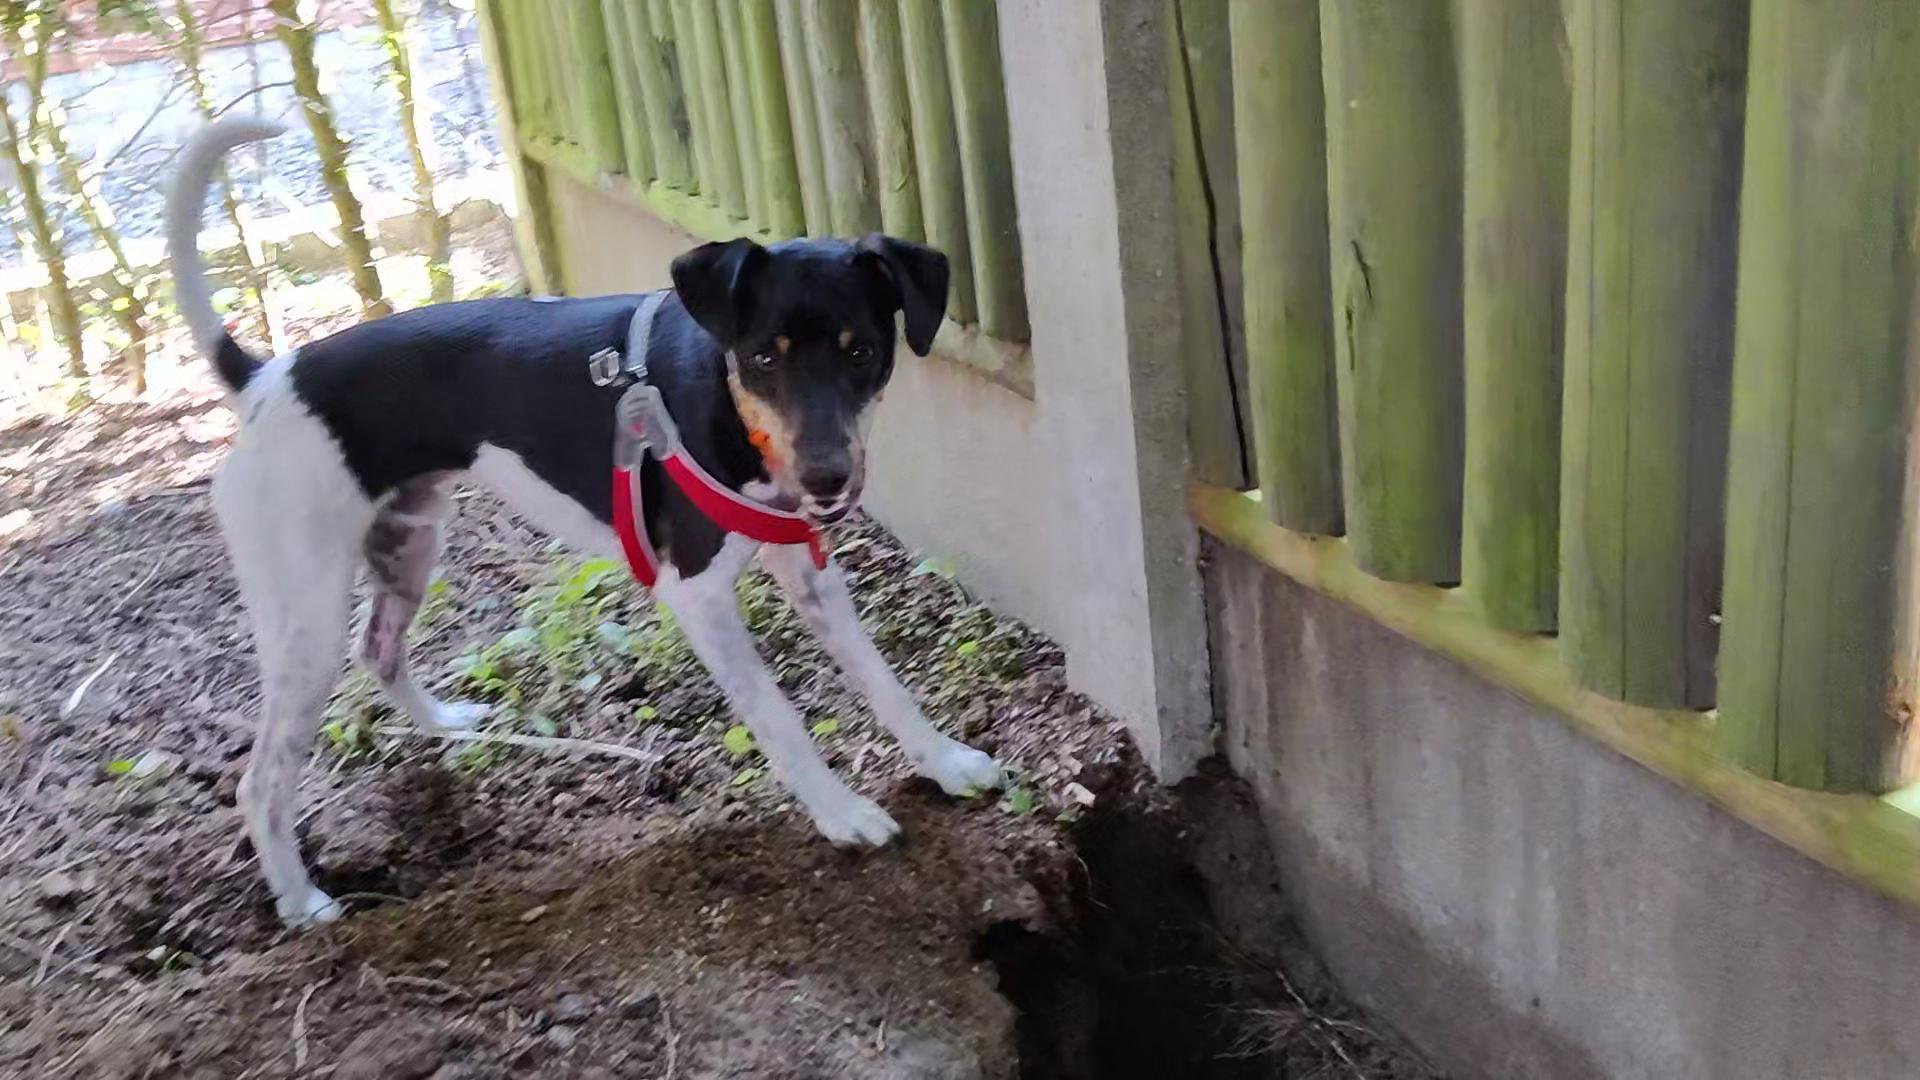Dog: (131, 98, 1036, 952)
